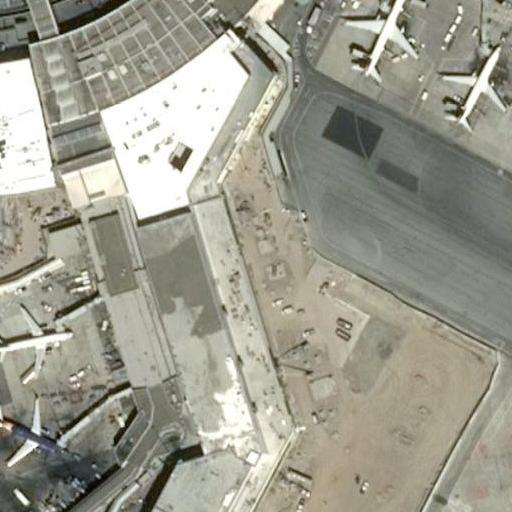Aircraft: (437, 38, 508, 134), (342, 0, 419, 82), (0, 304, 70, 378), (0, 399, 67, 467)
